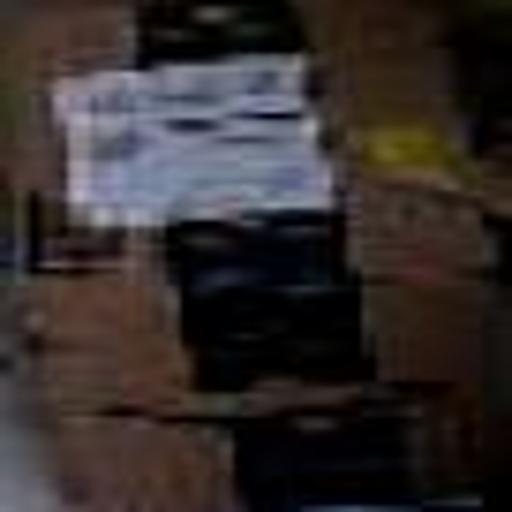Amazon: (47, 0, 500, 496)
